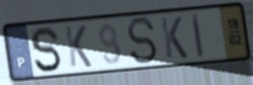9: (97, 21, 123, 67)
I: (190, 11, 206, 60)
K: (159, 15, 190, 61), (63, 24, 94, 70)
S: (125, 16, 160, 67), (29, 25, 64, 75)
